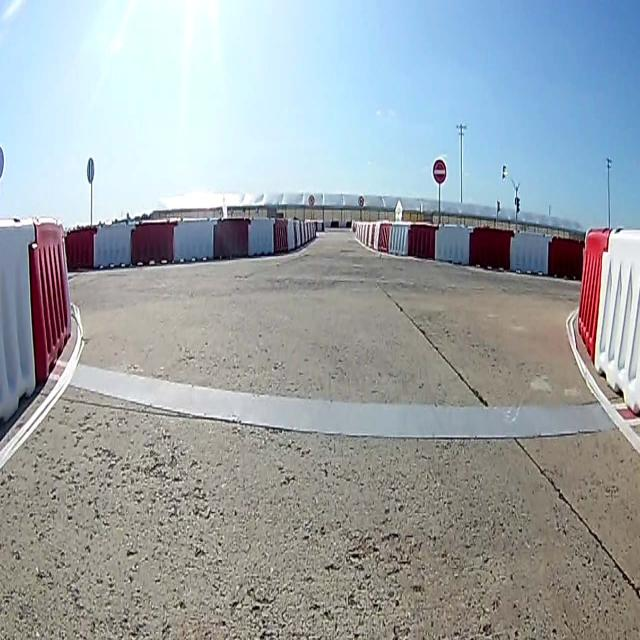girisyok: (433, 158, 447, 186)
